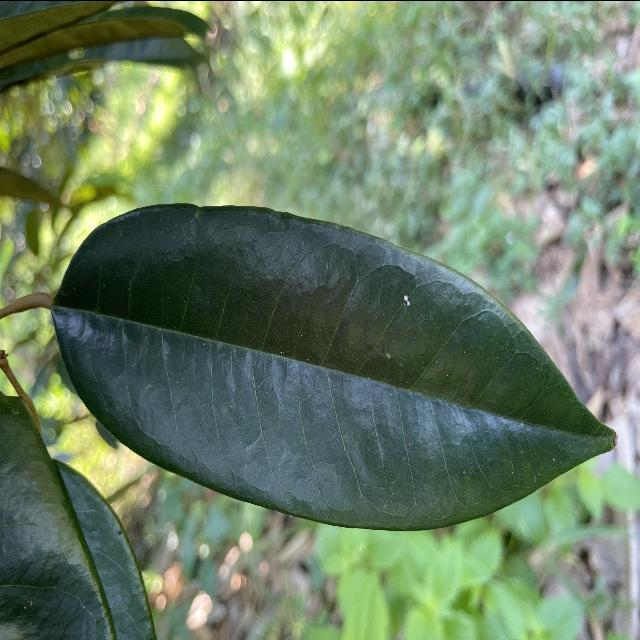No Disease: (37, 194, 623, 541)
